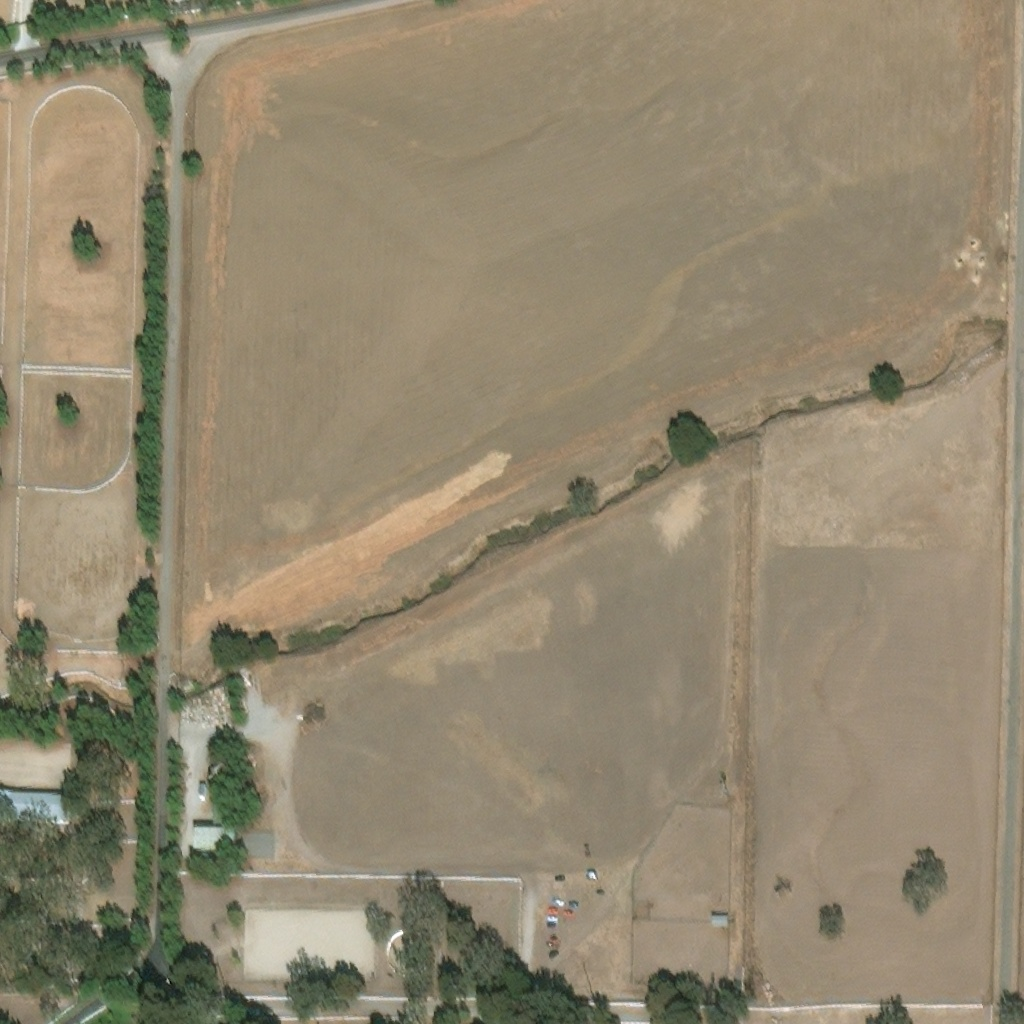0 no-damage: (0, 791, 71, 822), (196, 826, 239, 853), (215, 804, 234, 822), (711, 914, 728, 926)
